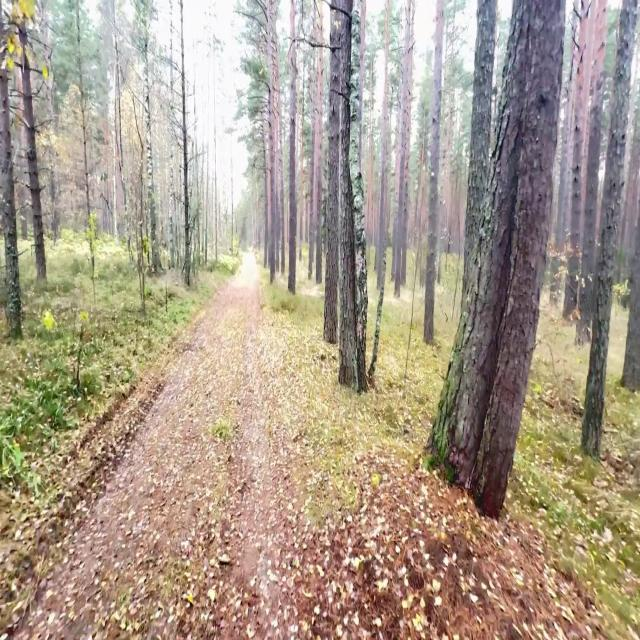trees: (419, 0, 528, 486), (466, 0, 565, 520), (582, 0, 637, 459), (576, 0, 606, 344), (463, 0, 496, 298), (337, 0, 358, 388), (563, 3, 587, 317), (134, 0, 161, 273), (18, 19, 46, 280), (350, 0, 367, 391), (424, 0, 443, 343), (0, 64, 21, 338), (76, 0, 94, 284), (324, 12, 339, 343), (376, 9, 388, 287), (622, 195, 639, 391), (394, 60, 408, 296), (266, 0, 277, 282), (180, 0, 190, 286), (288, 0, 297, 293), (401, 46, 412, 285), (369, 240, 386, 381), (115, 39, 127, 218), (276, 51, 285, 273), (316, 50, 323, 283), (308, 94, 314, 279), (214, 70, 217, 260), (231, 152, 233, 254)
